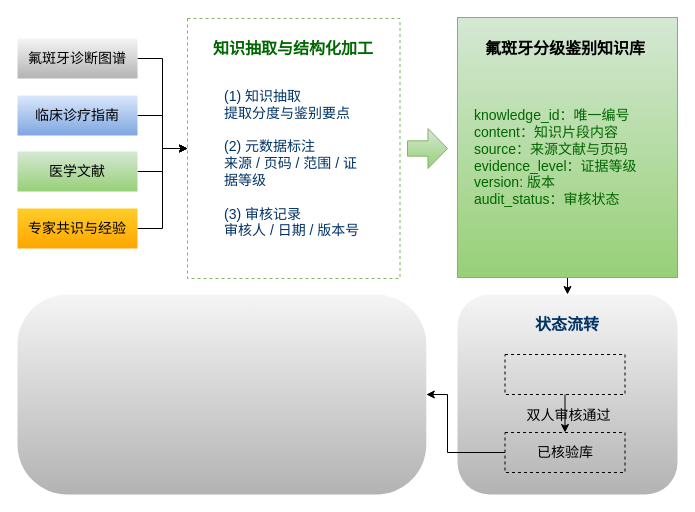
The diagram is 695 pixels wide and 512 high, and some of its shapes have lost their labels. The shapes that lost their labels are listed below. From the top down, each one's box as (x1, y1, x2, y2) in pixels, then its label:
(17, 294, 426, 494): 进入阶段二步骤二：视觉证据驱动检索
(504, 354, 625, 394): 带核验池
